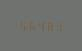eight: (45, 20, 53, 31)
five: (18, 19, 26, 30)
four: (36, 19, 44, 31)
six: (27, 19, 35, 30)
three: (54, 20, 62, 31)
